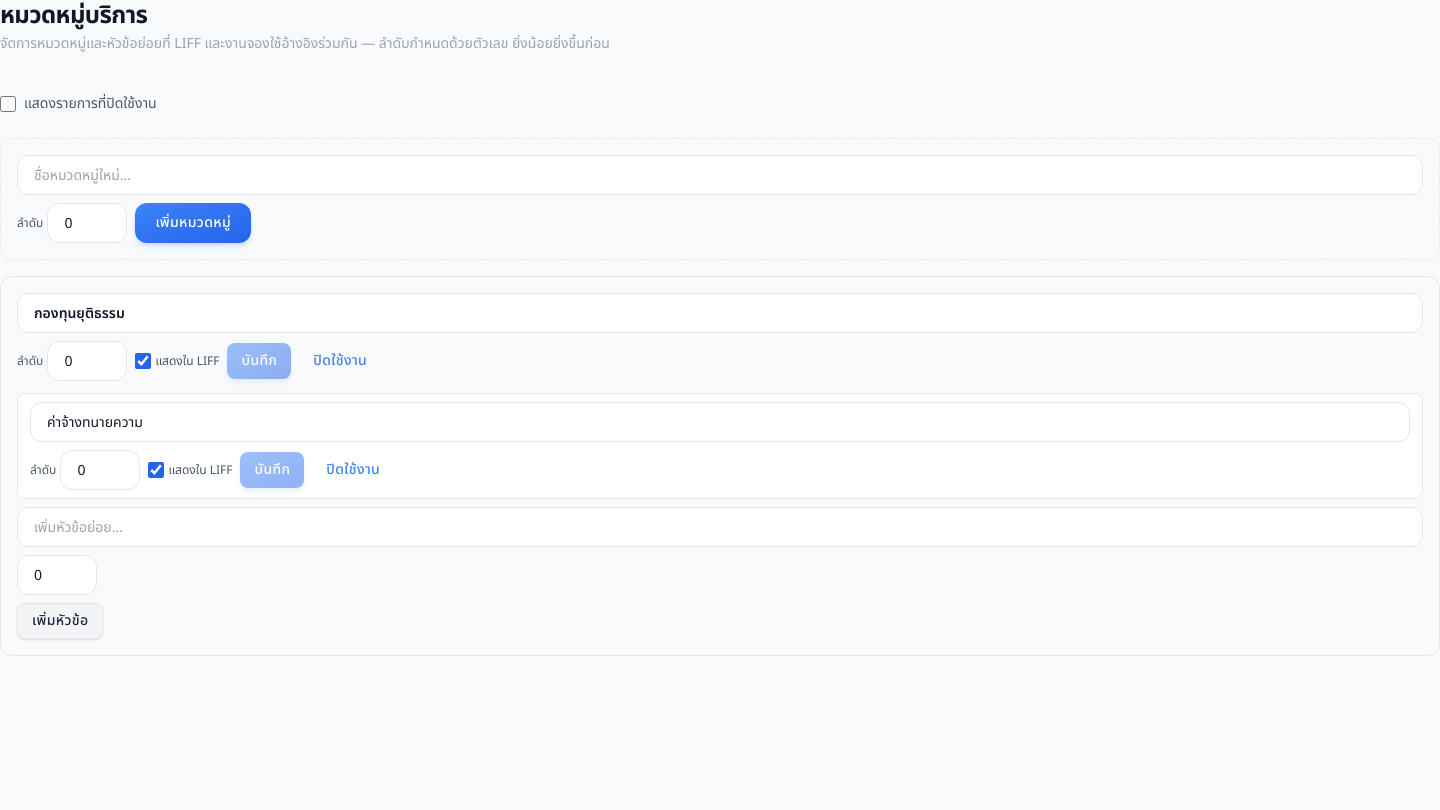
Test: TaxonomyEditor › hides a category with topics in one confirm (cascade)
The width and height of the screenshot is (1440, 810).
Expected: the field showing "กองทุนยุติธรรม" is shown, 17,293 -> 1423,333
Click the 1st button "ปิดใช้งาน": (340, 361) 299,343 -> 381,379
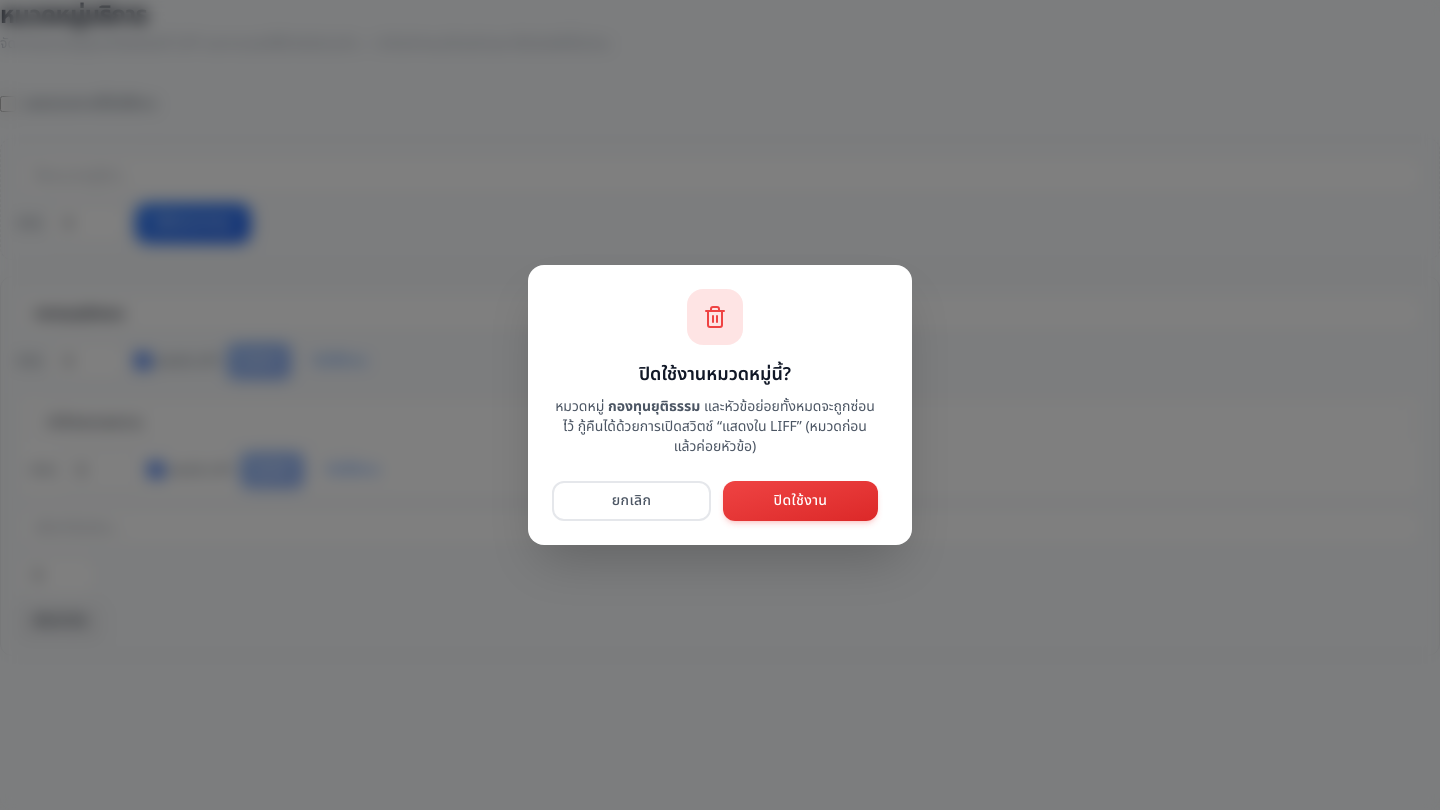
Expected: the heading "ปิดใช้งานหมวดหมู่นี้?" is shown, 639,361 -> 791,389
Expected: the text "หัวข้อย่อยทั้งหมดจะถูกซ่อนไว้" is shown, 563,396 -> 875,457
Click the button "ปิดใช้งาน": (800, 501) 723,481 -> 878,521
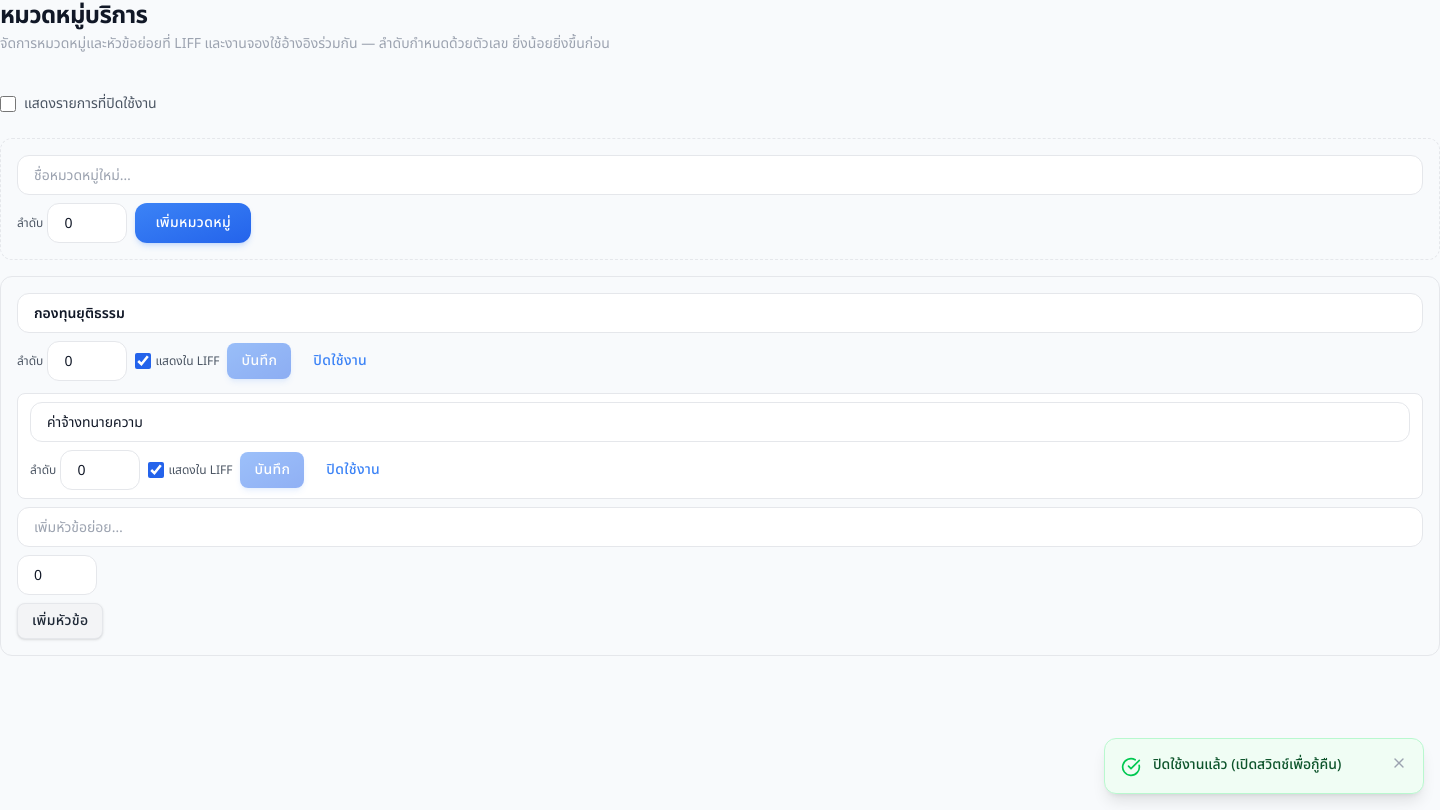
Expected: the text "ปิดใช้งานแล้ว (เปิดสวิตช์เพื่อกู้คืน)" is shown, 1153,754 -> 1341,775
